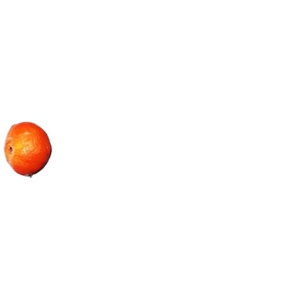tangerina: (5, 123, 56, 177)
